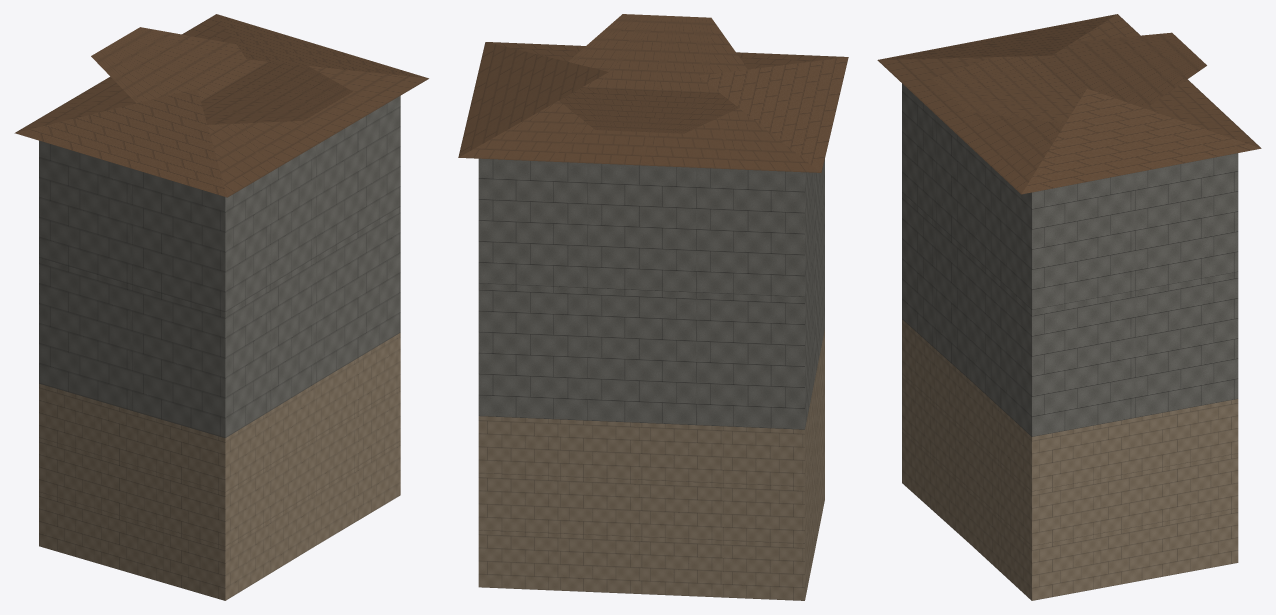
File: bld_c22_31_387.gltf
3 views of the same model, side by side, from view 1: azimuth 30°, elevation 25°; view 2: azimuth 150°, elevation 25°; view 3: azimuth 270°, elevation 25° (orthographic). The views are drawn at different scales.
Parts seen in each view (by area): view 1: bld_c22_31_387; view 2: bld_c22_31_387; view 3: bld_c22_31_387.
Boxes of the visible parts, box(x1,y1,x2,y2) form: bld_c22_31_387: box(14, 14, 428, 600); bld_c22_31_387: box(458, 14, 848, 600); bld_c22_31_387: box(877, 14, 1261, 600).
Size of the model in its own units: 12.05 by 14 by 10.84.
Materials: 3 (3 with a texture image).
